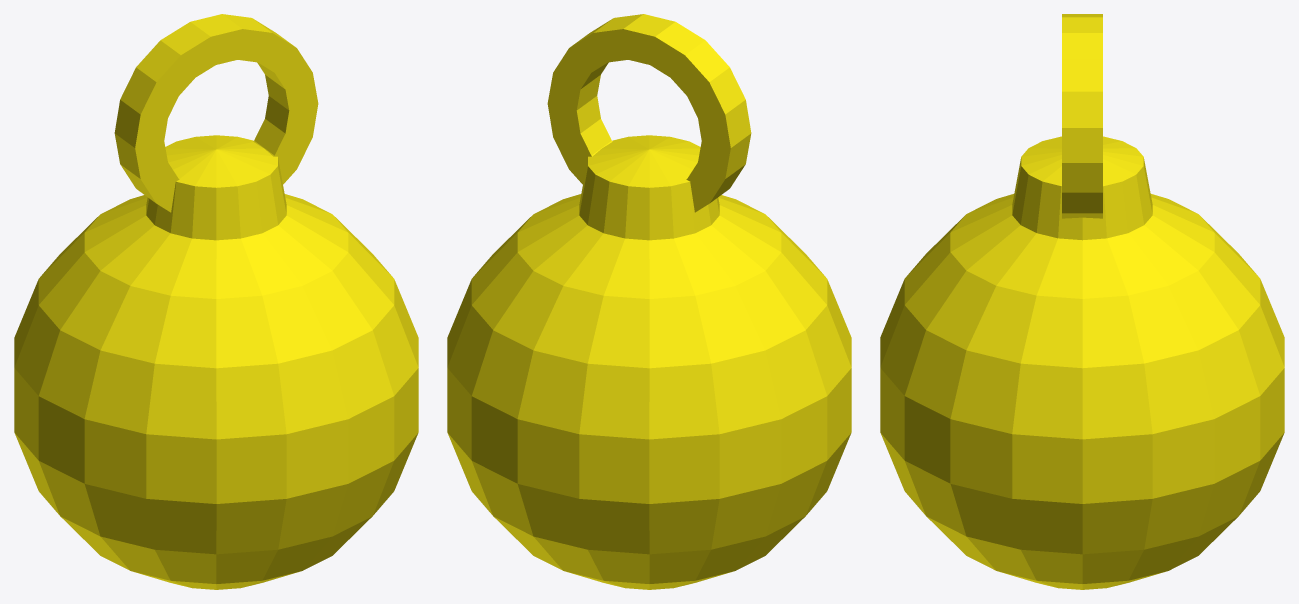
Rendered from LightBulb_yellow.fbx.
3 views of the same model, side by side, from view 1: azimuth 30°, elevation 25°; view 2: azimuth 150°, elevation 25°; view 3: azimuth 270°, elevation 25° (orthographic).
Parts seen in each view (by area): view 1: sphere, tube; view 2: sphere, tube; view 3: sphere, tube.
Boxes of the visible parts, left/top/right/bottom form: sphere: left=14, top=135, right=418, bottom=589; tube: left=114, top=14, right=318, bottom=212; sphere: left=447, top=135, right=851, bottom=589; tube: left=547, top=14, right=751, bottom=212; sphere: left=880, top=136, right=1284, bottom=589; tube: left=1062, top=14, right=1102, bottom=218.
Bounding box in the file's own units: 37.5 × 55 × 36.93.
1 material, 1 textured.
